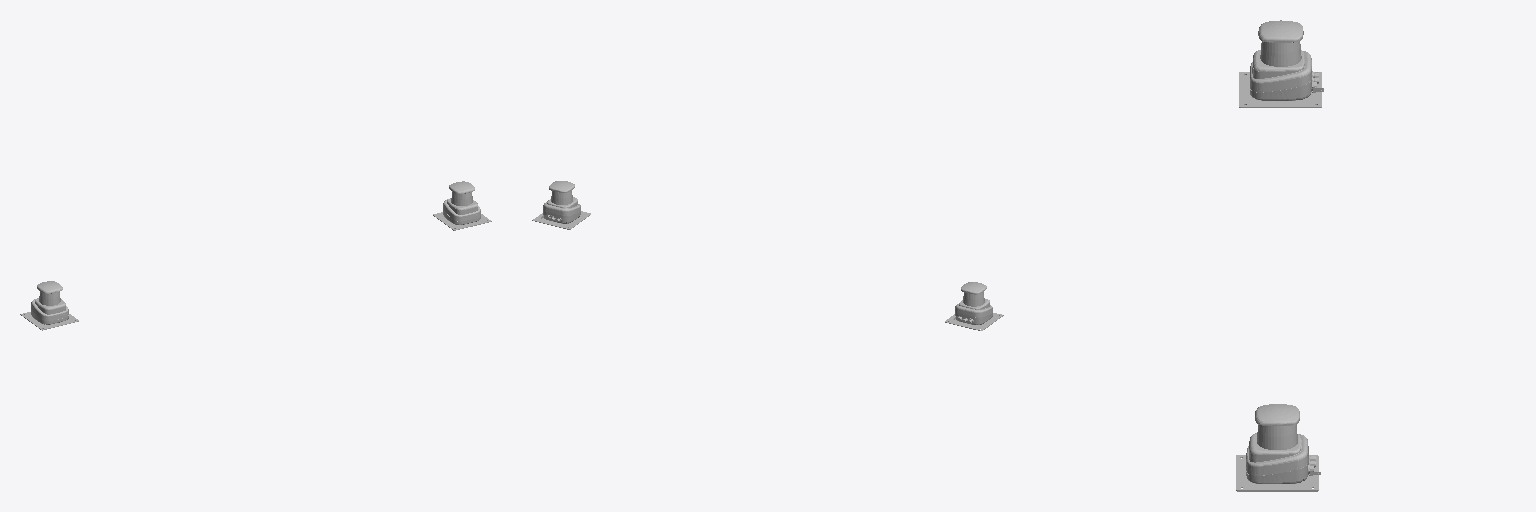
robot.urdf — dal_amr_urdf:
<?xml version="1.0" encoding="utf-8"?>
<!-- This URDF was automatically created by SolidWorks to URDF Exporter! Originally created by [author] ([email redacted]) 
     Commit Version: 1.6.0-4-g7f85cfe  Build Version: 1.6.7995.38578
     For more information, please see http://wiki.ros.org/sw_urdf_exporter -->
<robot
  name="dal_amr_urdf">
  <link
    name="base_link">
    <inertial>
      <origin
        xyz="0.0261585294959161 0.0207599841560278 0.365123806876851"
        rpy="0 0 0" />
      <mass
        value="1106.05430410529" />
      <inertia
        ixx="30.066170253479"
        ixy="-0.0415848053290866"
        ixz="-0.53238832239181"
        iyy="28.7861915042776"
        iyz="0.0642936150198036"
        izz="48.0522582435528" />
    </inertial>
    <visual>
      <origin
        xyz="0 0 0"
        rpy="0 0 0" />
      <geometry>
        <mesh
          filename="package://dal_amr_urdf/meshes/base_link.STL" />
      </geometry>
      <material
        name="">
        <color
          rgba="0.752941176470588 0.752941176470588 0.752941176470588 1" />
      </material>
    </visual>
    <collision>
      <origin
        xyz="0 0 0"
        rpy="0 0 0" />
      <geometry>
        <mesh
          filename="package://dal_amr_urdf/meshes/base_link.STL" />
      </geometry>
    </collision>
  </link>
  <link
    name="R-R_wheel_link">
    <inertial>
      <origin
        xyz="0.000837352246583434 0.074999972132261 -2.07541284916249E-05"
        rpy="0 0 0" />
      <mass
        value="10.8599966783425" />
      <inertia
        ixx="0.0459453194105362"
        ixy="1.37623721803839E-08"
        ixz="2.0567706879708E-06"
        iyy="0.0755405084811452"
        iyz="-2.9740265855708E-08"
        izz="0.0459505234666675" />
    </inertial>
    <visual>
      <origin
        xyz="0 0 0"
        rpy="0 0 0" />
      <geometry>
        <mesh
          filename="package://dal_amr_urdf/meshes/R-R_wheel_link.STL" />
      </geometry>
      <material
        name="">
        <color
          rgba="0.752941176470588 0.752941176470588 0.752941176470588 1" />
      </material>
    </visual>
    <collision>
      <origin
        xyz="0 0 0"
        rpy="0 0 0" />
      <geometry>
        <mesh
          filename="package://dal_amr_urdf/meshes/R-R_wheel_link.STL" />
      </geometry>
    </collision>
  </link>
  <joint
    name="R-R_wheel_joint"
    type="continuous">
    <origin
      xyz="-0.60085 -1.001 0.18751"
      rpy="0 0 0" />
    <parent
      link="base_link" />
    <child
      link="R-R_wheel_link" />
    <axis
      xyz="0 1 0" />
  </joint>
  <link
    name="R-F_wheel_link">
    <inertial>
      <origin
        xyz="0.000861331215951111 0.0750000221750111 -1.5873312427403E-05"
        rpy="0 0 0" />
      <mass
        value="10.8599965368607" />
      <inertia
        ixx="0.0459476780656676"
        ixy="-1.23349354784199E-08"
        ixz="-3.27048841674836E-06"
        iyy="0.0755405083455259"
        iyz="3.20025319341568E-08"
        izz="0.0459481647632598" />
    </inertial>
    <visual>
      <origin
        xyz="0 0 0"
        rpy="0 0 0" />
      <geometry>
        <mesh
          filename="package://dal_amr_urdf/meshes/R-F_wheel_link.STL" />
      </geometry>
      <material
        name="">
        <color
          rgba="0.752941176470588 0.752941176470588 0.752941176470588 1" />
      </material>
    </visual>
    <collision>
      <origin
        xyz="0 0 0"
        rpy="0 0 0" />
      <geometry>
        <mesh
          filename="package://dal_amr_urdf/meshes/R-F_wheel_link.STL" />
      </geometry>
    </collision>
  </link>
  <joint
    name="R-F_wheel_joint"
    type="continuous">
    <origin
      xyz="0.59915 -1.001 0.18751"
      rpy="0 0 0" />
    <parent
      link="base_link" />
    <child
      link="R-F_wheel_link" />
    <axis
      xyz="0 1 0" />
  </joint>
  <link
    name="L-R_wheel_link">
    <inertial>
      <origin
        xyz="-0.00082536642825537 -0.0749999727162014 9.5729200058764E-06"
        rpy="0 0 0" />
      <mass
        value="10.8599965274659" />
      <inertia
        ixx="0.0459502044190201"
        ixy="-3.21465114317733E-08"
        ixz="2.40441780102815E-06"
        iyy="0.0755405081550335"
        iyz="1.21842543537048E-08"
        izz="0.0459456382133597" />
    </inertial>
    <visual>
      <origin
        xyz="0 0 0"
        rpy="0 0 0" />
      <geometry>
        <mesh
          filename="package://dal_amr_urdf/meshes/L-R_wheel_link.STL" />
      </geometry>
      <material
        name="">
        <color
          rgba="0.752941176470588 0.752941176470588 0.752941176470588 1" />
      </material>
    </visual>
    <collision>
      <origin
        xyz="0 0 0"
        rpy="0 0 0" />
      <geometry>
        <mesh
          filename="package://dal_amr_urdf/meshes/L-R_wheel_link.STL" />
      </geometry>
    </collision>
  </link>
  <joint
    name="L-R_wheel_joint"
    type="continuous">
    <origin
      xyz="-0.59915 1.001 0.18751"
      rpy="0 0 0" />
    <parent
      link="base_link" />
    <child
      link="L-R_wheel_link" />
    <axis
      xyz="0 1 0" />
  </joint>
  <link
    name="L-F_wheel_link">
    <inertial>
      <origin
        xyz="-0.00082963837710226 -0.0749999778249339 -1.58733125112387E-05"
        rpy="0 0 0" />
      <mass
        value="10.8599965368607" />
      <inertia
        ixx="0.0459476780656694"
        ixy="-1.23349355070176E-08"
        ixz="-3.27048841586967E-06"
        iyy="0.0755405083455284"
        iyz="3.20025306280555E-08"
        izz="0.0459481647632624" />
    </inertial>
    <visual>
      <origin
        xyz="0 0 0"
        rpy="0 0 0" />
      <geometry>
        <mesh
          filename="package://dal_amr_urdf/meshes/L-F_wheel_link.STL" />
      </geometry>
      <material
        name="">
        <color
          rgba="0.752941176470588 0.752941176470588 0.752941176470588 1" />
      </material>
    </visual>
    <collision>
      <origin
        xyz="0 0 0"
        rpy="0 0 0" />
      <geometry>
        <mesh
          filename="package://dal_amr_urdf/meshes/L-F_wheel_link.STL" />
      </geometry>
    </collision>
  </link>
  <joint
    name="L-F_wheel_joint"
    type="continuous">
    <origin
      xyz="0.60085 1.001 0.18751"
      rpy="0 0 0" />
    <parent
      link="base_link" />
    <child
      link="L-F_wheel_link" />
    <axis
      xyz="0 1 0" />
  </joint>
  <link
    name="laser_link">
    <inertial>
      <origin
        xyz="7.54806509695172E-06 0.000904387104686655 -0.0378632905447961"
        rpy="0 0 0" />
      <mass
        value="0.78633137266118" />
      <inertia
        ixx="0.00127802962224363"
        ixy="-2.72188723631283E-07"
        ixz="1.91076054946291E-07"
        iyy="0.0012469905533279"
        iyz="5.36961290094029E-06"
        izz="0.00109111857909315" />
    </inertial>
    <visual>
      <origin
        xyz="0 0 0"
        rpy="0 0 0" />
      <geometry>
        <mesh
          filename="package://dal_amr_urdf/meshes/laser_link.STL" />
      </geometry>
      <material
        name="">
        <color
          rgba="0.752941176470588 0.752941176470588 0.752941176470588 1" />
      </material>
    </visual>
    <collision>
      <origin
        xyz="0 0 0"
        rpy="0 0 0" />
      <geometry>
        <mesh
          filename="package://dal_amr_urdf/meshes/laser_link.STL" />
      </geometry>
    </collision>
  </link>
  <joint
    name="laser_joint"
    type="fixed">
    <origin
      xyz="0.765 -0.73999 0.56751"
      rpy="0 0 0" />
    <parent
      link="base_link" />
    <child
      link="laser_link" />
    <axis
      xyz="0 0 0" />
  </joint>
  <link
    name="laser_link2">
    <inertial>
      <origin
        xyz="7.54806509717376E-06 0.000904387104687543 -0.0378632905447973"
        rpy="0 0 0" />
      <mass
        value="0.786331372661181" />
      <inertia
        ixx="0.00127802962224362"
        ixy="-2.72188723626779E-07"
        ixz="1.9107605494226E-07"
        iyy="0.00124699055332788"
        iyz="5.36961290093202E-06"
        izz="0.00109111857909317" />
    </inertial>
    <visual>
      <origin
        xyz="0 0 0"
        rpy="0 0 0" />
      <geometry>
        <mesh
          filename="package://dal_amr_urdf/meshes/laser_link2.STL" />
      </geometry>
      <material
        name="">
        <color
          rgba="0.752941176470588 0.752941176470588 0.752941176470588 1" />
      </material>
    </visual>
    <collision>
      <origin
        xyz="0 0 0"
        rpy="0 0 0" />
      <geometry>
        <mesh
          filename="package://dal_amr_urdf/meshes/laser_link2.STL" />
      </geometry>
    </collision>
  </link>
  <joint
    name="laser_joint2"
    type="fixed">
    <origin
      xyz="-0.765 -0.73399 0.56751"
      rpy="0 0 0" />
    <parent
      link="base_link" />
    <child
      link="laser_link2" />
    <axis
      xyz="0 0 0" />
  </joint>
</robot>

--- What the picture shows (computed from the rendered views, not written in the file) ---
Views: 3 orthographic renders of the robot side by side, from view 1: azimuth 30°, elevation 25°; view 2: azimuth 150°, elevation 25°; view 3: azimuth 270°, elevation 25°.
Robot: dal_amr_urdf — 7 links, 6 joints (4 continuous, 2 fixed); root link base_link; default pose: every joint at zero.
Visible links, largest first — view 1: laser_link, laser_link2; view 2: laser_link, laser_link2; view 3: laser_link, laser_link2.
Boxes of the visible links, x1,y1,x2,y2 form: laser_link: (433, 181, 491, 230); laser_link2: (20, 281, 78, 330); laser_link: (532, 181, 590, 229); laser_link2: (945, 282, 1003, 330); laser_link: (1236, 404, 1320, 491); laser_link2: (1239, 20, 1323, 107).
Bounding box of the posed robot: 1.67 × 0.1487 × 0.1185 m (x, y, z).
Meshes: 7 distinct files referenced, 2 mesh visuals loaded (2 binary STL); not drawn: 5 (reference not matched to a file when rendering).